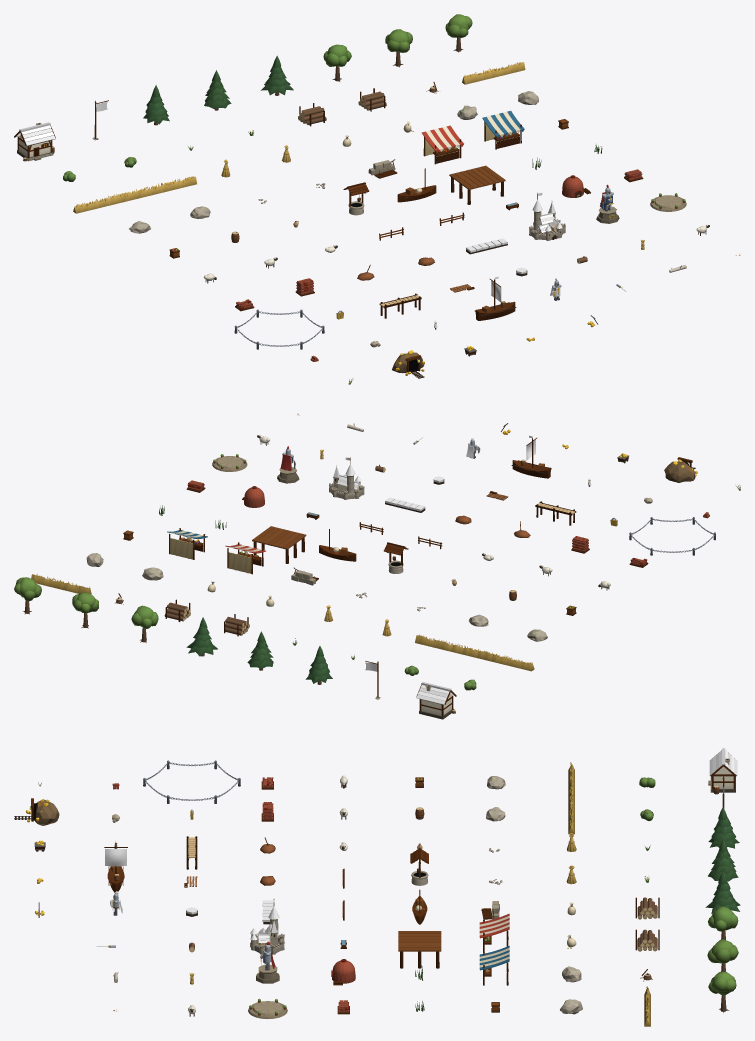
File: village_kit.glb
3 renders of one model, top to bottom at view 1: azimuth 30°, elevation 25°; view 2: azimuth 150°, elevation 25°; view 3: azimuth 270°, elevation 25°, orthographic. The views are drawn at different scales.
Visible parts, largest first — view 1: house, tent_0, tent_1, dock, city, ship, mine, pine_2, oak_1, pine_1; view 2: house, dock, city, tent_0, tent_1, ship, mine, pine_2, pine_1, oak_2, wheatrow_1, wheatrow_2 (+5 smaller); view 3: dock, house, city, ship, mine, tent_1, pine_1, tent_0, pine_0, pine_2, dais, oak_2 (+7 smaller).
Part boxes in pixels (box(x1,y1,x2,y2)): house: box(14, 122, 55, 161); tent_0: box(421, 125, 463, 164); tent_1: box(482, 111, 524, 149); dock: box(449, 165, 505, 204); city: box(529, 192, 565, 240); ship: box(474, 276, 516, 320); mine: box(392, 350, 424, 378); pine_2: box(261, 55, 293, 95); oak_1: box(385, 29, 412, 67); pine_1: box(204, 70, 231, 110); house: box(416, 682, 456, 719); dock: box(252, 526, 306, 563); city: box(329, 457, 364, 499); tent_0: box(225, 542, 265, 574); tent_1: box(167, 528, 207, 559); ship: box(511, 435, 551, 478); mine: box(664, 457, 697, 482); pine_2: box(186, 617, 217, 656); pine_1: box(247, 631, 273, 670); oak_2: box(14, 577, 41, 614); wheatrow_1: box(473, 649, 534, 671); wheatrow_2: box(415, 634, 474, 656); dock: box(398, 931, 441, 968); house: box(708, 748, 737, 794); city: box(250, 898, 284, 954); ship: box(104, 843, 127, 892); mine: box(14, 798, 59, 825); tent_1: box(479, 945, 509, 985); pine_1: box(708, 839, 738, 881); tent_0: box(479, 913, 509, 951); pine_0: box(708, 807, 739, 848); pine_2: box(705, 871, 740, 913); dais: box(248, 998, 287, 1018); oak_2: box(708, 971, 736, 1012).
Bounding box in the file's own units: 12.9 × 1.32 × 15.32.
